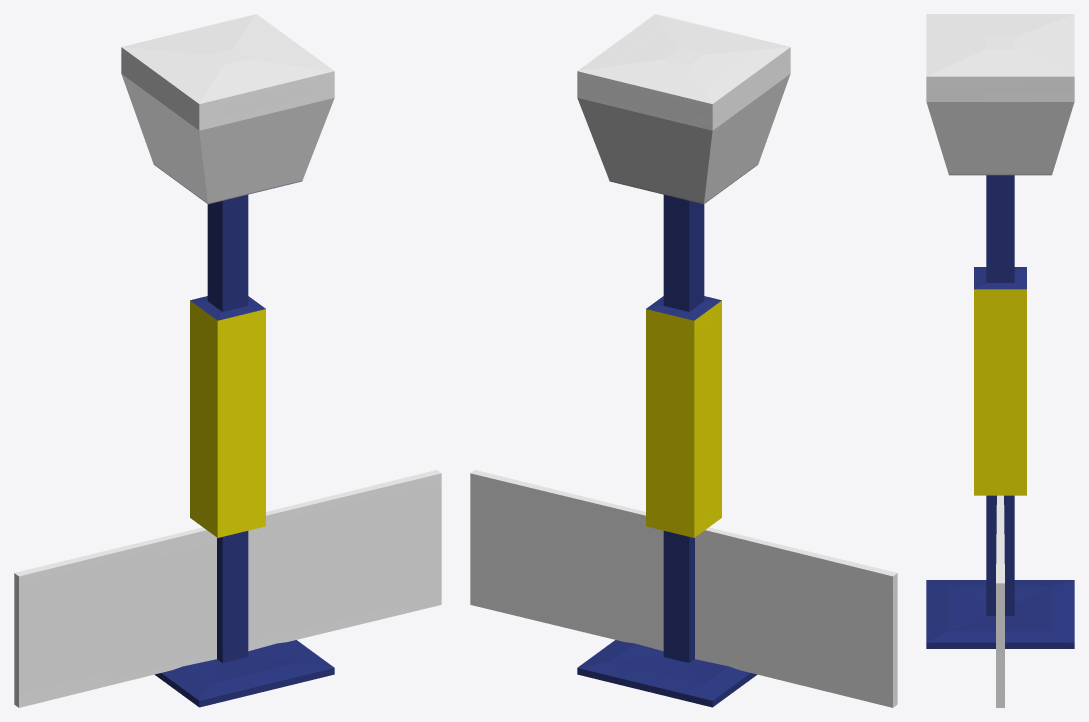
The model's file is Obstacle3.fbx.
3 renders of one model, left to right at view 1: azimuth 30°, elevation 25°; view 2: azimuth 150°, elevation 25°; view 3: azimuth 270°, elevation 25°, orthographic. The views are drawn at different scales.
Parts seen in each view (by area): view 1: Obstacle3; view 2: Obstacle3; view 3: Obstacle3.
Boxes of the visible parts, left/top/right/bottom form: Obstacle3: left=14, top=14, right=441, bottom=707; Obstacle3: left=470, top=14, right=897, bottom=707; Obstacle3: left=926, top=14, right=1074, bottom=707.
Size of the model in its own units: 165 by 226 by 52.81.
